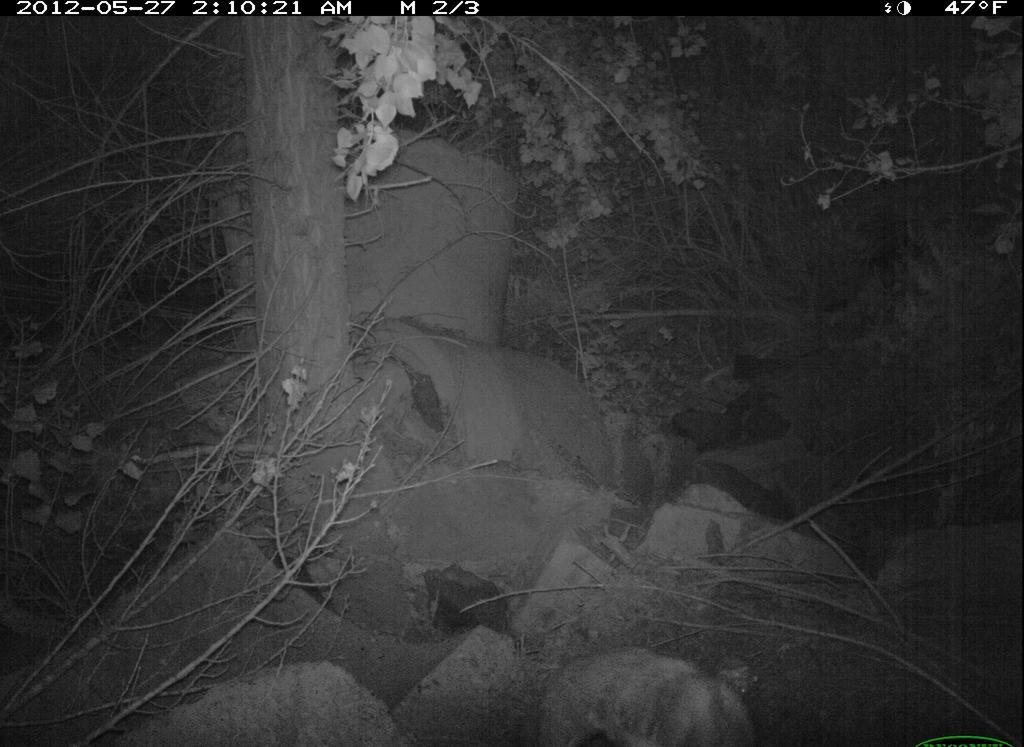coyote: (539, 629, 765, 744)
